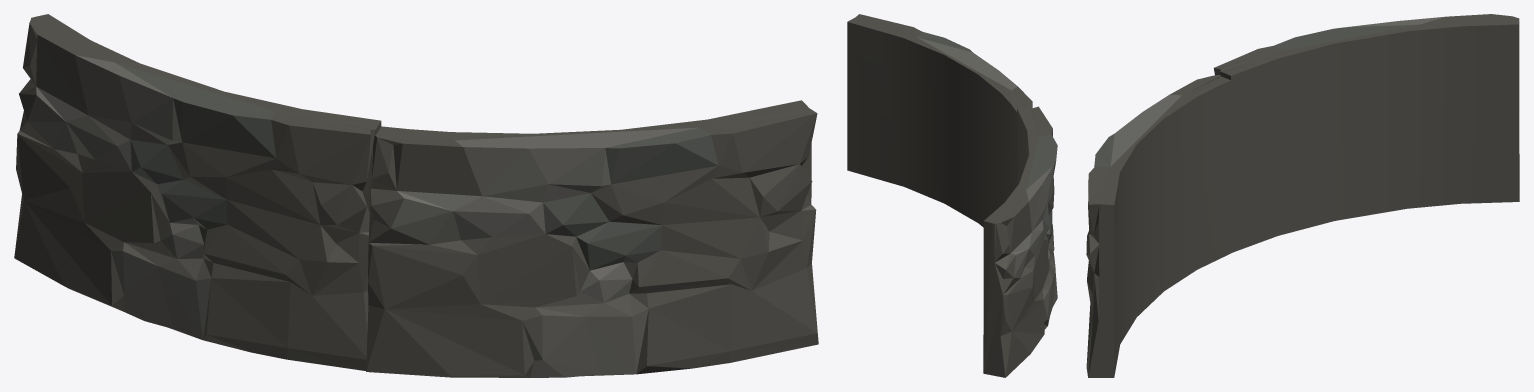
File: MDungeon_Walls_Base_Curve_03.FBX
3 renders of one model, left to right at view 1: azimuth 30°, elevation 25°; view 2: azimuth 150°, elevation 25°; view 3: azimuth 270°, elevation 25°, orthographic. The views are drawn at different scales.
Visible parts, largest first — view 1: MDungeon_Walls_Base_Curve_03_LOD0; view 2: MDungeon_Walls_Base_Curve_03_LOD0; view 3: MDungeon_Walls_Base_Curve_03_LOD0.
Boxes of the visible parts, <box> form: MDungeon_Walls_Base_Curve_03_LOD0: <box>14,14,818,377</box>; MDungeon_Walls_Base_Curve_03_LOD0: <box>847,14,1057,377</box>; MDungeon_Walls_Base_Curve_03_LOD0: <box>1086,14,1519,377</box>.
Size of what is drawn, in the model's own units: 6.59 by 2.88 by 6.37.
